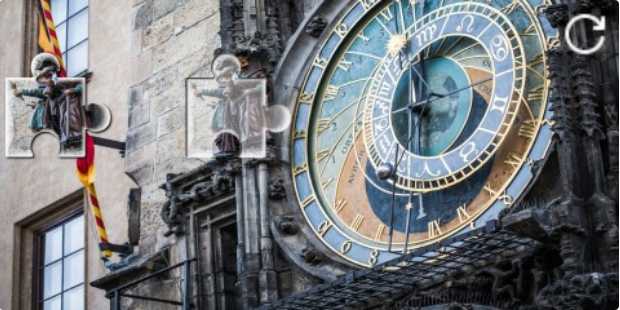target: (186, 52, 291, 159)
